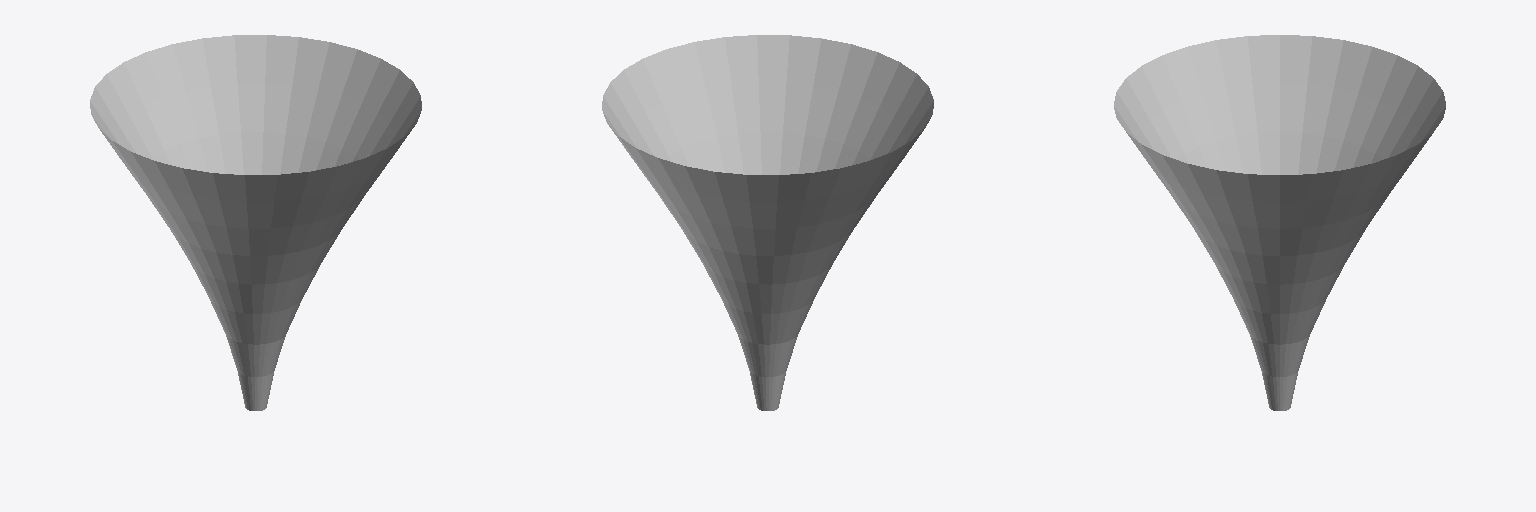
Rendered from Dust2.obj.
3 renders of one model, left to right at view 1: azimuth 30°, elevation 25°; view 2: azimuth 150°, elevation 25°; view 3: azimuth 270°, elevation 25°, orthographic.
Visible parts, largest first — view 1: Cylinder; view 2: Cylinder; view 3: Cylinder.
Boxes of the visible parts, x1,y1,x2,y2 form: Cylinder: [90, 35, 421, 410]; Cylinder: [602, 35, 933, 410]; Cylinder: [1114, 35, 1445, 410].
Bounding box in the file's own units: 2 × 2 × 2.